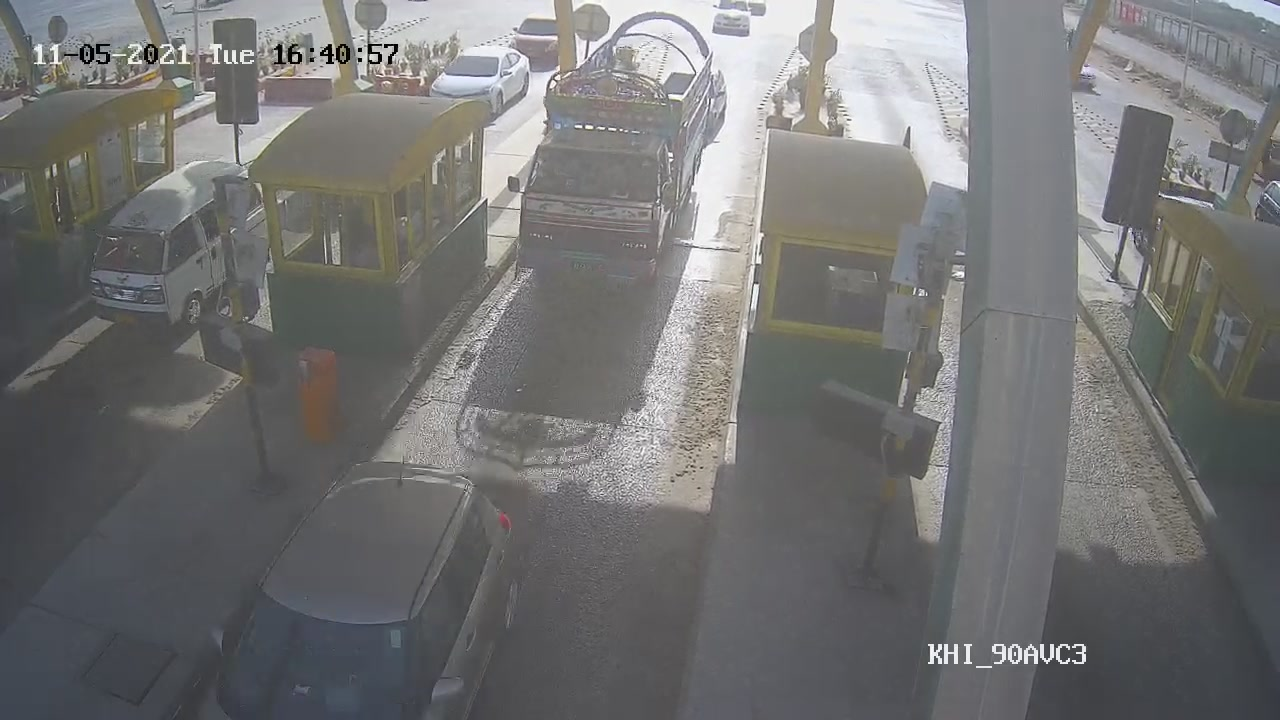F5: (510, 9, 718, 289)
